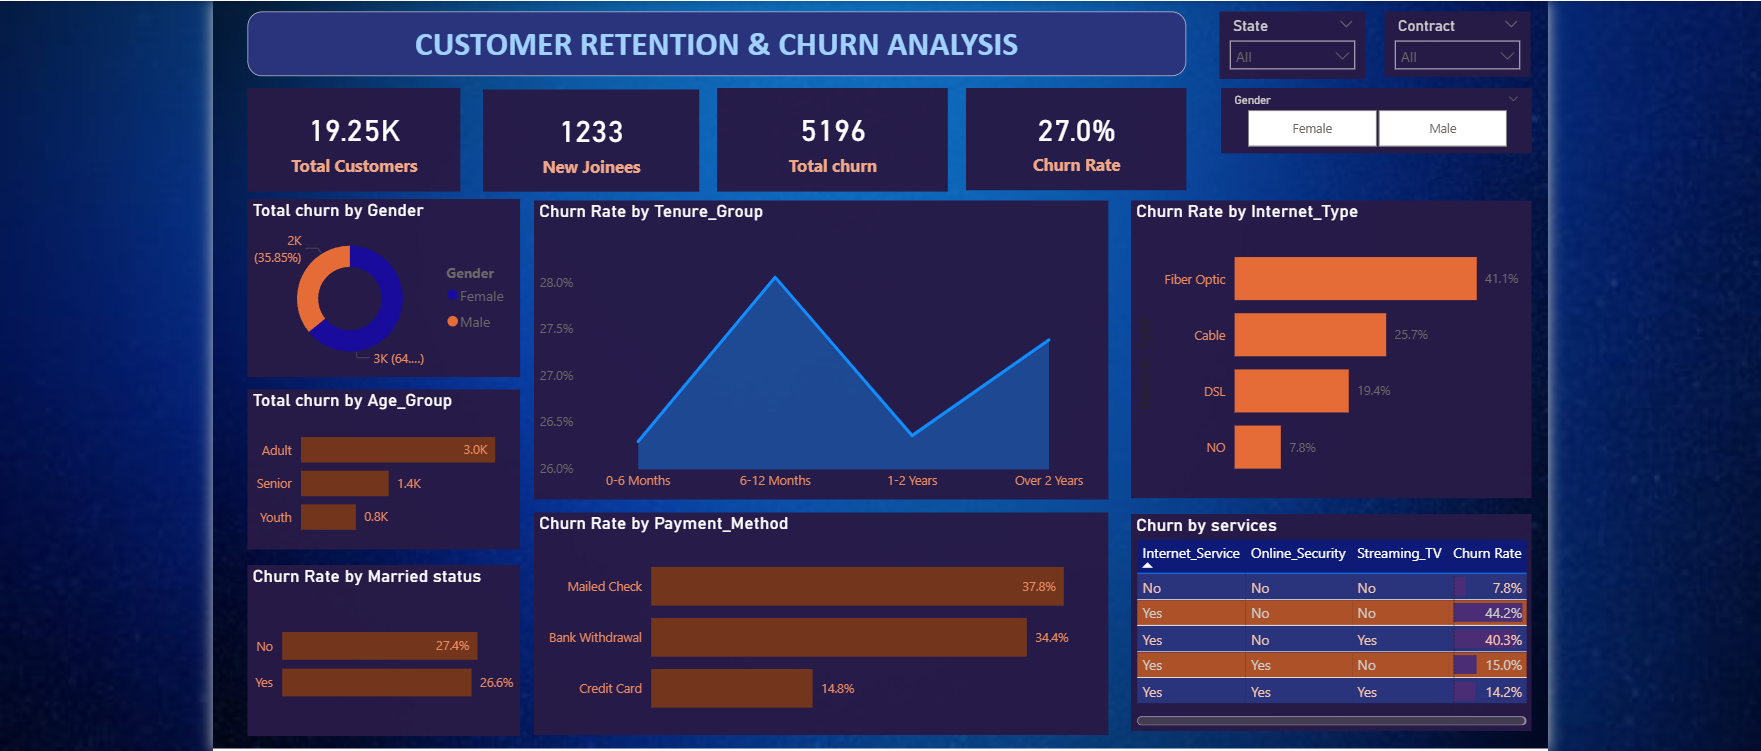

This screenshot's page, from the dashboard's own definition file:
{"tool":"powerbi","page":{"name":"Page 1","canvas":[1280,720],"ordinal":0},"visuals":[{"type":"card","fields":{"Values":["churn_analysis_cleaned.Total Customers"]},"box":[33.1,72.5,204.8,99.2],"z":0},{"type":"card","fields":{"Values":["churn_analysis_cleaned.New Joinees"]},"box":[255.2,74,206.3,97.7],"z":1000},{"type":"card","fields":{"Values":["churn_analysis_cleaned.Total churn"]},"box":[483.6,72.5,220.5,99.2],"z":2000},{"type":"card","fields":{"Values":["churn_analysis_cleaned.Churn Rate"]},"box":[721.4,74,212.6,97.7],"z":3000},{"type":"donutChart","fields":{"Category":["churn_analysis_cleaned.Gender"],"Y":["churn_analysis_cleaned.Total churn"]},"box":[33.6,190,261.6,171],"z":4000},{"type":"barChart","fields":{"Category":["churn_analysis_cleaned.Age_Group"],"Y":["churn_analysis_cleaned.Total churn"]},"box":[33.6,372.7,261.6,153.5],"z":5000},{"type":"clusteredBarChart","fields":{"Category":["churn_analysis_cleaned.Payment_Method"],"Y":["churn_analysis_cleaned.Churn Rate"]},"box":[308.4,491.1,551,213.4],"z":6000},{"type":"barChart","fields":{"Category":["churn_analysis_cleaned.Internet_Type"],"Y":["churn_analysis_cleaned.Churn Rate"]},"box":[880.5,190.6,384.3,285.1],"z":7000},{"type":"tableEx","title":"Churn by services","fields":{"Values":["churn_analysis_cleaned.Internet_Service","churn_analysis_cleaned.Online_Security","churn_analysis_cleaned.Streaming_TV","churn_analysis_cleaned.Churn Rate"]},"box":[880.5,491.4,384.3,207.9],"z":8000},{"type":"slicer","fields":{"Values":["churn_analysis_cleaned.Gender"]},"box":[966,83.3,298.1,62.8],"z":9000},{"type":"slicer","fields":{"Values":["churn_analysis_cleaned.Contract"]},"box":[1123.9,10.2,140.3,62.8],"z":10000},{"type":"slicer","fields":{"Values":["churn_analysis_cleaned.State"]},"box":[965.5,9.5,140.2,64.6],"z":11000},{"type":"areaChart","title":"Churn Rate by Tenure_Group","fields":{"Y":["churn_analysis_cleaned.Churn Rate"],"Category":["churn_analysis_cleaned.Tenure_Group"]},"box":[308.4,191.5,551,286.4],"z":12000},{"type":"textbox","box":[33.1,15.8,900.9,48.8],"z":13000},{"type":"clusteredBarChart","title":"Churn Rate by Married status","fields":{"Category":["churn_analysis_cleaned.Married"],"Y":["churn_analysis_cleaned.Churn Rate"]},"box":[33.6,540.7,261.6,163.7],"z":14000}]}

Visuals, with their boxes on the page's 1280x720 design canvas (x1, y1, x2, y2). These are canvas units, not pixel positions in the 1761x751 screenshot, which may show the page scaled, cropped or inside an application window:
card - churn_analysis_cleaned.Total Customers: detection(33, 72, 238, 172)
card - churn_analysis_cleaned.New Joinees: detection(255, 74, 462, 172)
card - churn_analysis_cleaned.Total churn: detection(484, 72, 704, 172)
card - churn_analysis_cleaned.Churn Rate: detection(721, 74, 934, 172)
donutChart - churn_analysis_cleaned.Gender x churn_analysis_cleaned.Total churn: detection(34, 190, 295, 361)
barChart - churn_analysis_cleaned.Age_Group x churn_analysis_cleaned.Total churn: detection(34, 373, 295, 526)
clusteredBarChart - churn_analysis_cleaned.Payment_Method x churn_analysis_cleaned.Churn Rate: detection(308, 491, 859, 704)
barChart - churn_analysis_cleaned.Internet_Type x churn_analysis_cleaned.Churn Rate: detection(880, 191, 1265, 476)
"Churn by services" tableEx: detection(880, 491, 1265, 699)
slicer - churn_analysis_cleaned.Gender: detection(966, 83, 1264, 146)
slicer - churn_analysis_cleaned.Contract: detection(1124, 10, 1264, 73)
slicer - churn_analysis_cleaned.State: detection(966, 10, 1106, 74)
"Churn Rate by Tenure_Group" areaChart: detection(308, 192, 859, 478)
textbox: detection(33, 16, 934, 65)
"Churn Rate by Married status" clusteredBarChart: detection(34, 541, 295, 704)
